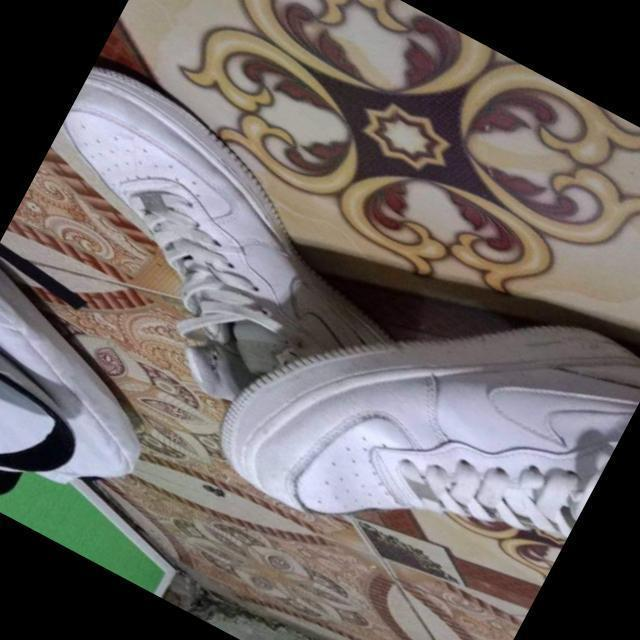nike fake air force: (0, 45, 465, 463), (196, 211, 640, 627)
